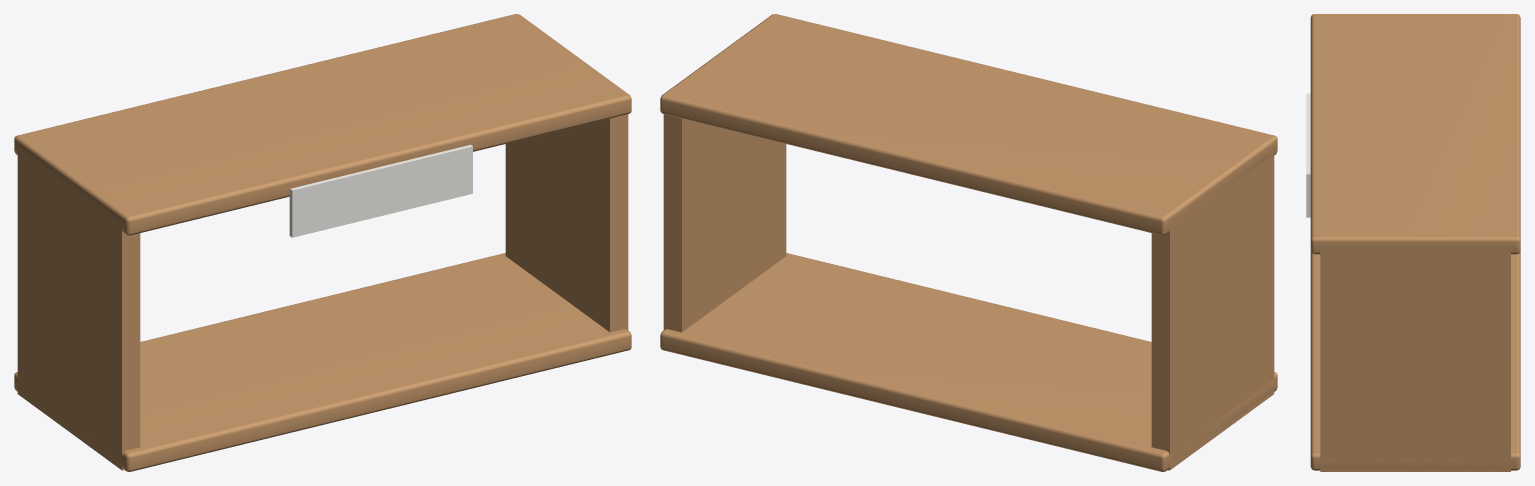
The model's file is MugShelf.fbx.
3 views of the same model, side by side, from view 1: azimuth 30°, elevation 25°; view 2: azimuth 150°, elevation 25°; view 3: azimuth 270°, elevation 25° (orthographic). The views are drawn at different scales.
Parts seen in each view (by area): view 1: TopShelf, Base.004, Post, Post.001, Sign.001; view 2: TopShelf, Base.004, Post, Post.001; view 3: TopShelf, Post.001, Base.004, Sign.001.
Boxes of the visible parts, left/top/right/bottom form: TopShelf: left=14, top=14, right=631, bottom=235; Base.004: left=14, top=253, right=631, bottom=471; Post: left=17, top=148, right=140, bottom=470; Post.001: left=505, top=114, right=628, bottom=332; Sign.001: left=289, top=144, right=472, bottom=237; TopShelf: left=660, top=14, right=1277, bottom=235; Base.004: left=660, top=253, right=1277, bottom=471; Post: left=1151, top=154, right=1274, bottom=470; Post.001: left=663, top=114, right=786, bottom=332; TopShelf: left=1310, top=14, right=1520, bottom=254; Post.001: left=1320, top=247, right=1510, bottom=471; Base.004: left=1310, top=251, right=1520, bottom=470; Sign.001: left=1306, top=93, right=1310, bottom=217.
Size of the model in its own units: 0.56 by 0.27 by 0.2245.
